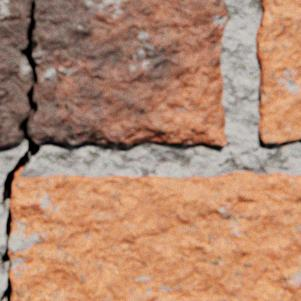brick: (8, 171, 300, 300), (254, 0, 300, 142)
broken_brick: (28, 0, 227, 144), (0, 0, 33, 145)
crack: (0, 0, 40, 300)
